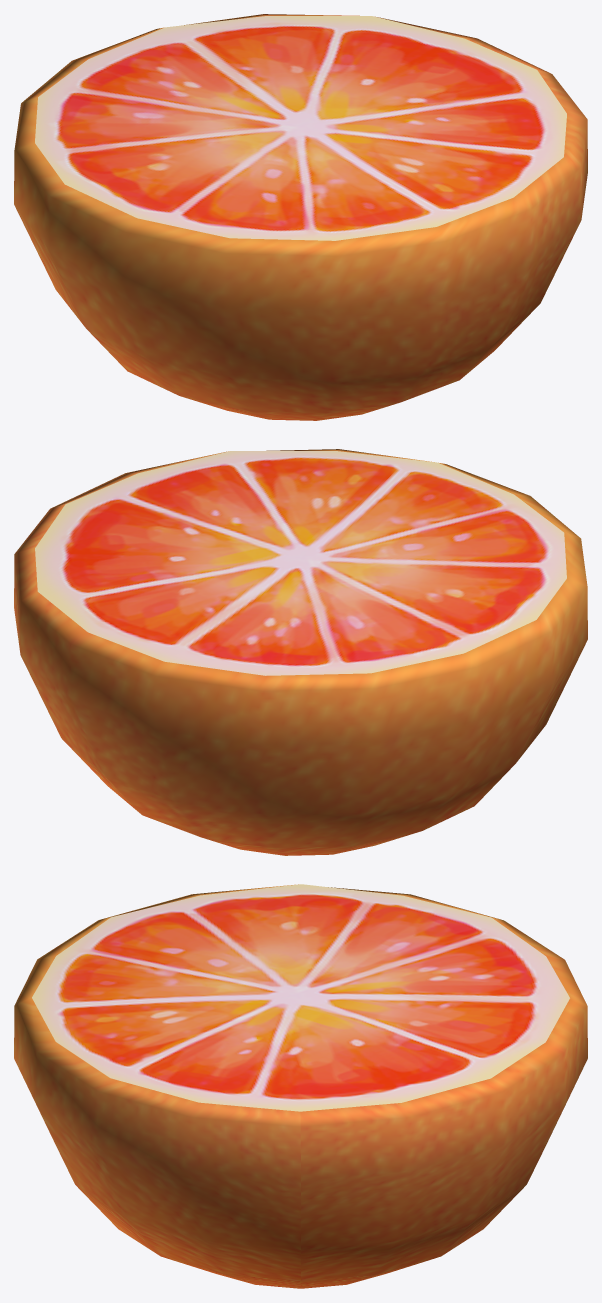
File: Grapefruit_Half.fbx
3 renders of one model, top to bottom at view 1: azimuth 30°, elevation 25°; view 2: azimuth 150°, elevation 25°; view 3: azimuth 270°, elevation 25°, orthographic.
Visible parts, largest first — view 1: Grapefruit_Half; view 2: Grapefruit_Half; view 3: Grapefruit_Half.
Part boxes in pixels (box(x1,y1,x2,y2)): Grapefruit_Half: box(14, 14, 587, 420); Grapefruit_Half: box(14, 449, 587, 855); Grapefruit_Half: box(14, 884, 587, 1288).
Bounding box in the file's own units: 34.66 × 17.69 × 34.66.
